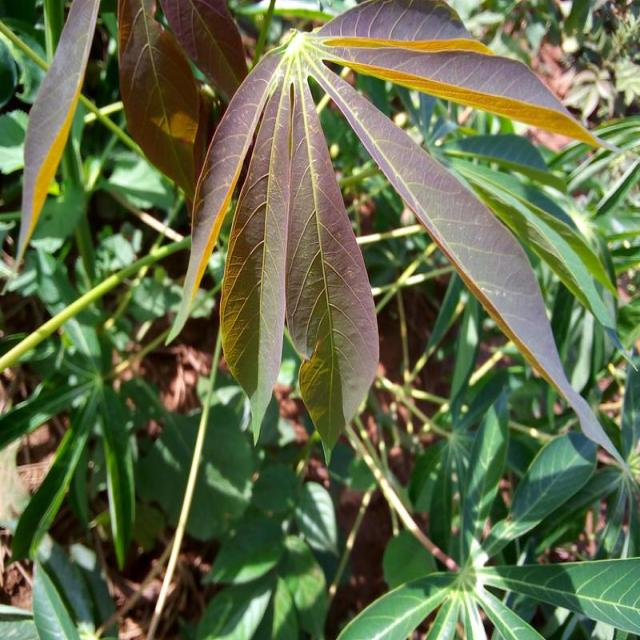cassava leaf: (167, 0, 624, 468)
